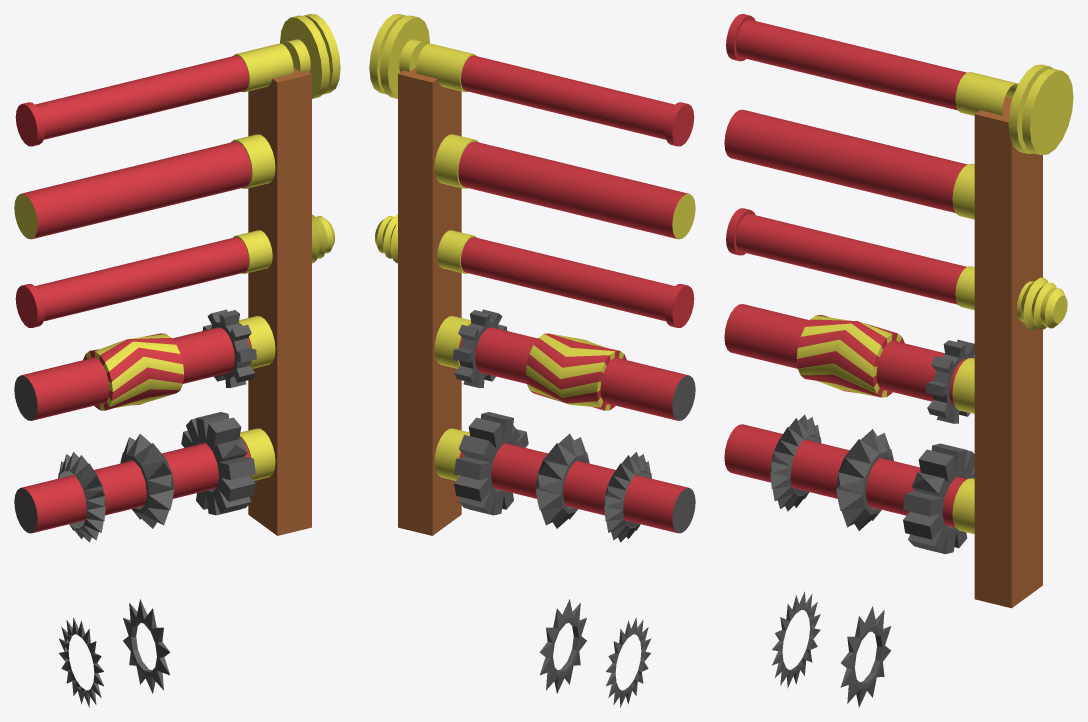
The model's file is LadderSteps.fbx.
The picture shows the model from 3 angles, left to right: view 1: azimuth 30°, elevation 25°; view 2: azimuth 150°, elevation 25°; view 3: azimuth 330°, elevation 25°; orthographic projection. The views are drawn at different scales.
Visible parts, largest first — view 1: Cube, Cylinder.002, Cylinder.020, Cylinder.030, Knifes.041, Knifes.040, Speed.010, Speed.011, KnifesSeperated, Cylinder.021, Speed.012, Cylinder.031; view 2: Cube, Cylinder.002, Cylinder.020, Cylinder.030, Knifes.041, Knifes.040, Speed.010, Speed.011, KnifesSeperated, Cylinder.021, Speed.012, Cylinder.031; view 3: Cube, Cylinder.002, Cylinder.020, Knifes.041, Cylinder.030, Knifes.040, Speed.010, Speed.011, Cylinder.021, KnifesSeperated, Speed.012, Cylinder.031.
Part boxes in pixels (x1,y1,x2,y2): Cube: (248, 67, 311, 535); Cylinder.002: (14, 134, 275, 239); Cylinder.020: (15, 43, 293, 146); Cylinder.030: (15, 230, 272, 327); Knifes.041: (58, 412, 255, 542); Knifes.040: (14, 428, 275, 533); Speed.010: (14, 316, 275, 420); Speed.011: (83, 333, 184, 410); KnifesSeperated: (58, 599, 170, 707); Cylinder.021: (280, 14, 340, 98); Speed.012: (202, 309, 256, 387); Cylinder.031: (312, 214, 334, 263); Cube: (398, 67, 461, 535); Cylinder.002: (434, 134, 695, 239); Cylinder.020: (416, 43, 694, 146); Cylinder.030: (437, 230, 694, 327); Knifes.041: (454, 412, 651, 542); Knifes.040: (434, 428, 695, 533); Speed.010: (434, 316, 695, 420); Speed.011: (525, 333, 626, 410); KnifesSeperated: (539, 599, 651, 707); Cylinder.021: (369, 14, 429, 98); Speed.012: (453, 309, 507, 387); Cylinder.031: (375, 214, 397, 263); Cube: (974, 96, 1042, 608); Cylinder.002: (724, 109, 974, 219); Cylinder.020: (726, 14, 1018, 115); Knifes.041: (770, 414, 974, 554); Cylinder.030: (726, 208, 974, 310); Knifes.040: (724, 424, 974, 534); Speed.010: (724, 304, 974, 413); Speed.011: (796, 315, 904, 397); Cylinder.021: (1008, 64, 1073, 154); KnifesSeperated: (772, 591, 891, 707); Speed.012: (925, 339, 974, 423); Cylinder.031: (1017, 277, 1067, 330).
Size of the model in its own units: 113 by 226 by 32.14.
